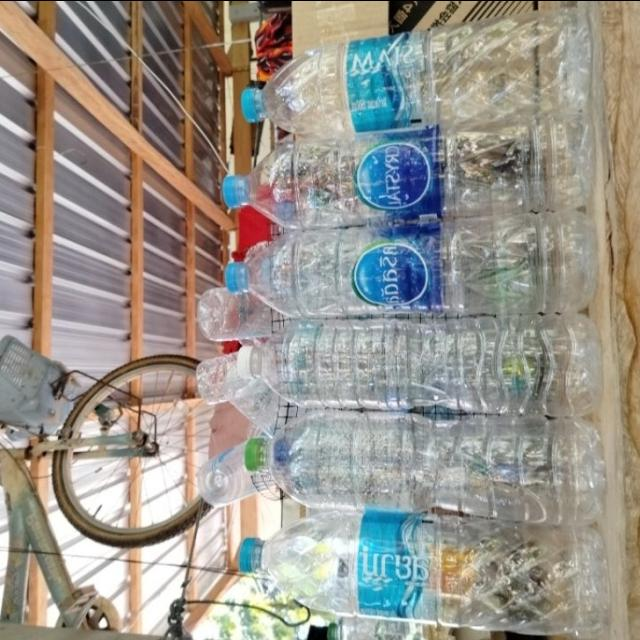plastik: (238, 510, 608, 637), (241, 8, 591, 137), (223, 114, 593, 228), (245, 410, 605, 524), (225, 211, 597, 316), (237, 313, 601, 416)
